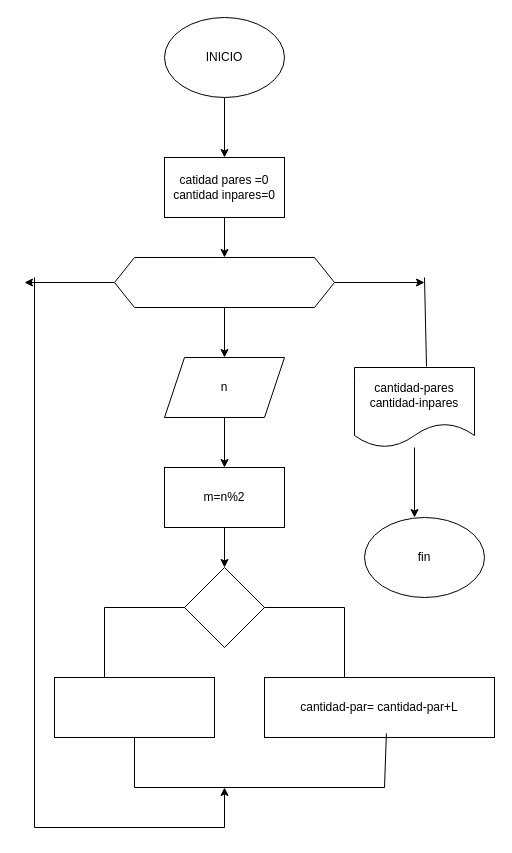
Some shapes in this 512 by 853 pixel diagram are drawn without their labels. The shapes that lost their labels are listed below. From the top down, each one's centre as x and y in pixels, then its label:
At pixel 224 282: "i=0, 19".
At pixel 224 607: "m==0".
At pixel 134 707: "cantidad-inpar=cantidad-impar+L".
